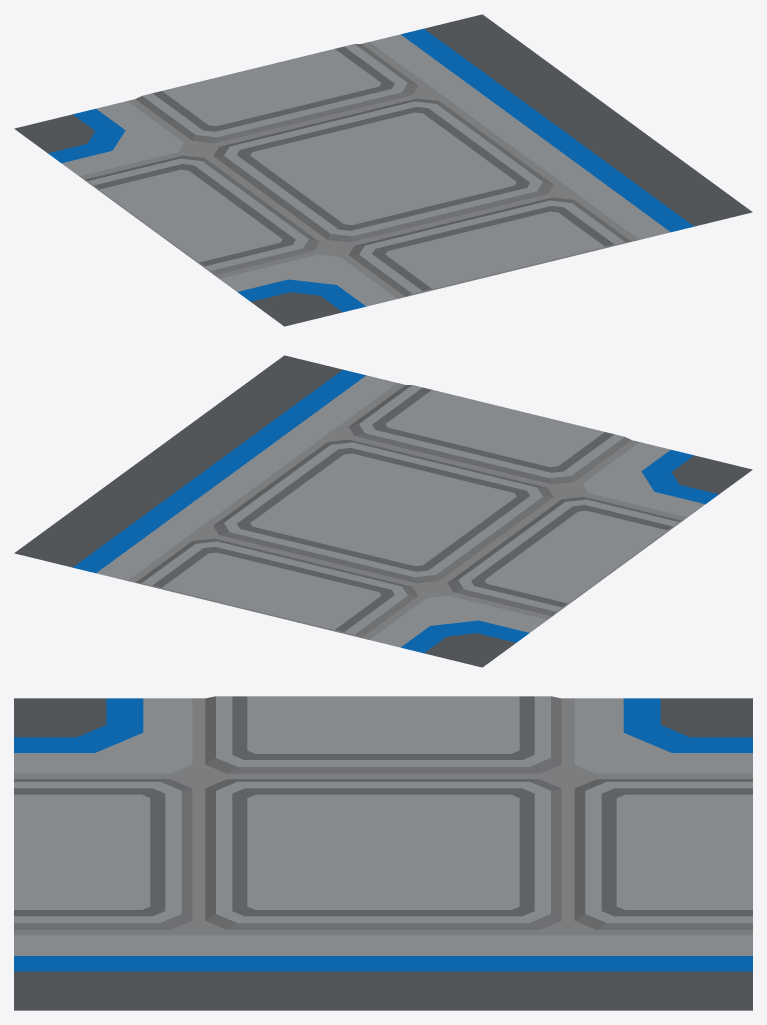
File: Floor_type_B_026.fbx
The picture shows the model from 3 angles, top to bottom: view 1: azimuth 30°, elevation 25°; view 2: azimuth 150°, elevation 25°; view 3: azimuth 270°, elevation 25°; orthographic projection. The views are drawn at different scales.
Visible parts, largest first — view 1: Floor_type_B_026; view 2: Floor_type_B_026; view 3: Floor_type_B_026.
Part boxes in pixels (box(x1,y1,x2,y2)): Floor_type_B_026: box(14, 14, 752, 326); Floor_type_B_026: box(14, 355, 752, 667); Floor_type_B_026: box(14, 696, 752, 1010).
Size of the model in its own units: 400 by 400 by 1.34.
